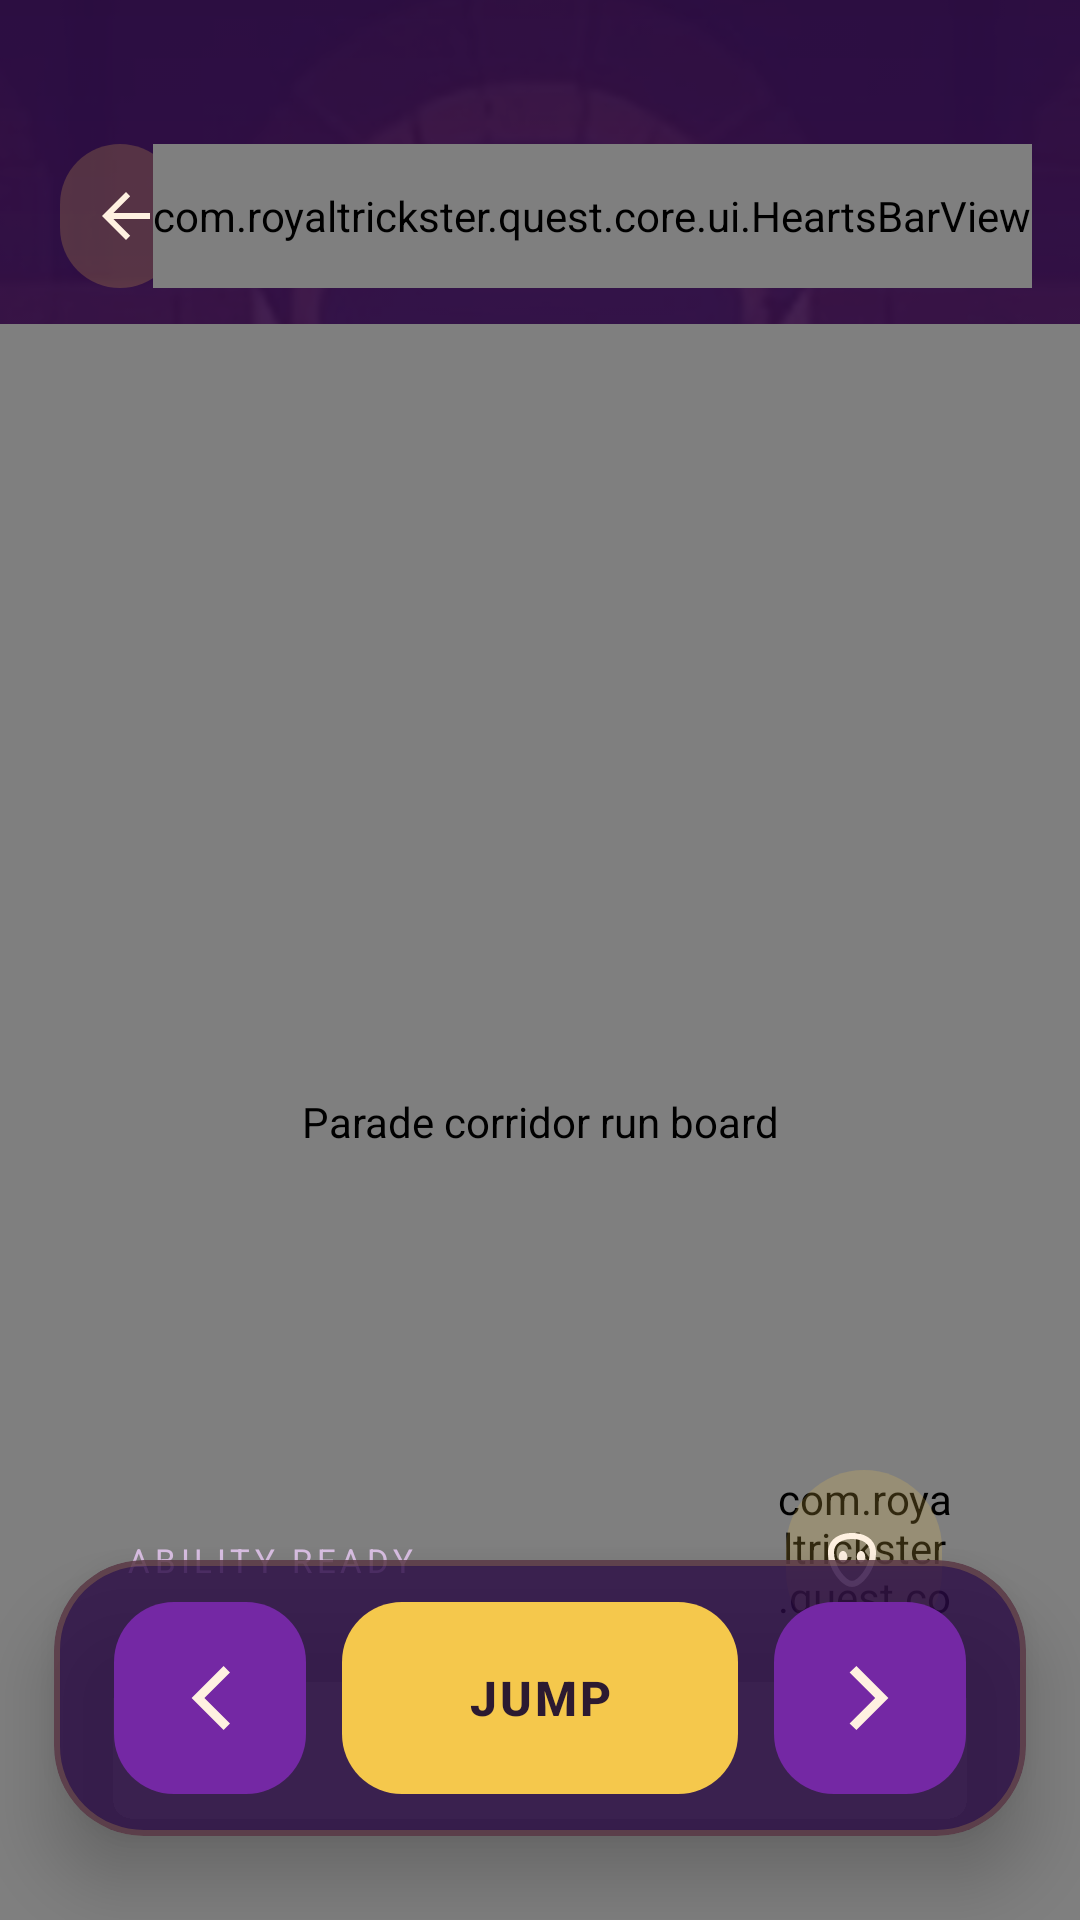

Named icons in this screenshot (1080*1920) and their centers, (x,y):
Move one lane left: (210,1698)
Move one lane right: (870,1698)
